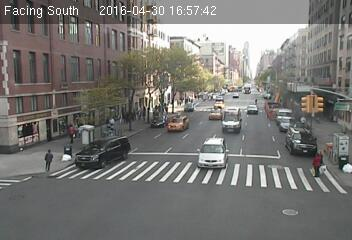neg: (3, 54, 36, 97), (187, 122, 218, 164), (131, 51, 161, 92), (290, 89, 315, 122), (189, 58, 213, 90), (329, 94, 350, 121), (143, 103, 164, 130), (276, 197, 295, 223), (9, 122, 28, 147), (330, 128, 348, 152), (87, 120, 101, 139), (251, 95, 264, 112)
pos: (308, 149, 329, 177), (38, 144, 58, 171), (61, 120, 78, 143), (103, 115, 118, 135)
